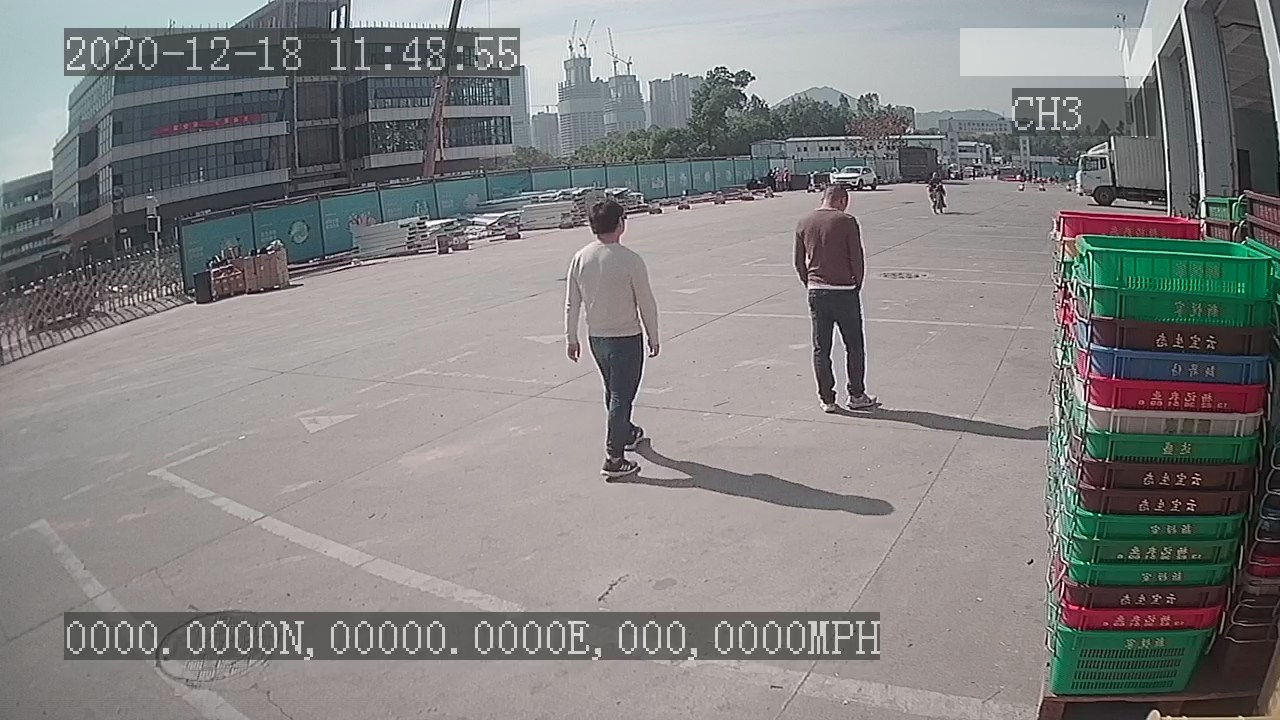person: (558, 197, 668, 485), (792, 177, 881, 419)
